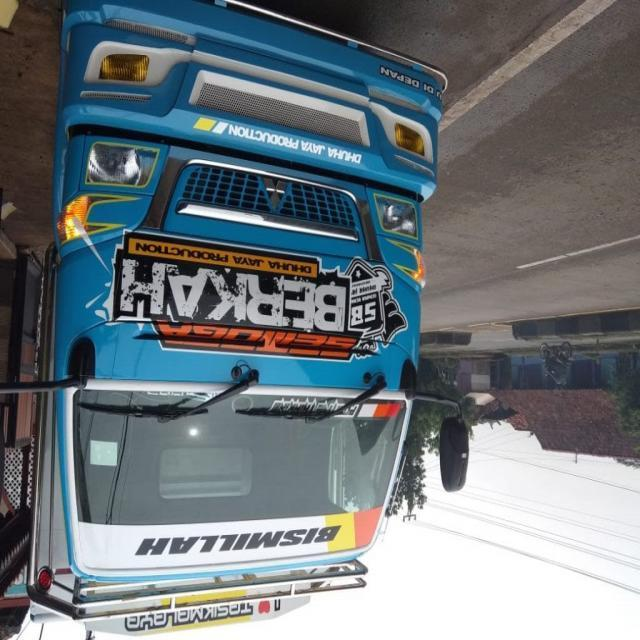truck: (1, 1, 470, 637)
